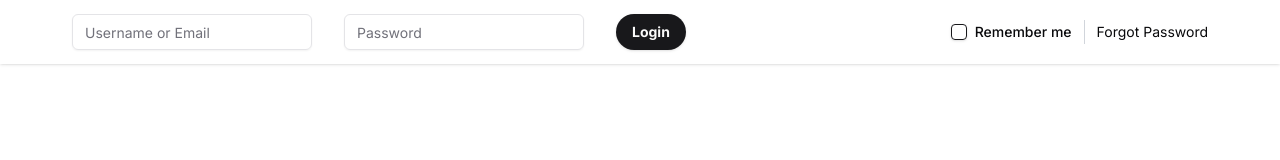
it: LoginNavbar › should show error message for empty password
The image size is (1280, 160).
Type "john.doe@example.com" into the field with placeholder "Username or Email". click: (192, 32)
box: [72,14,312,50]
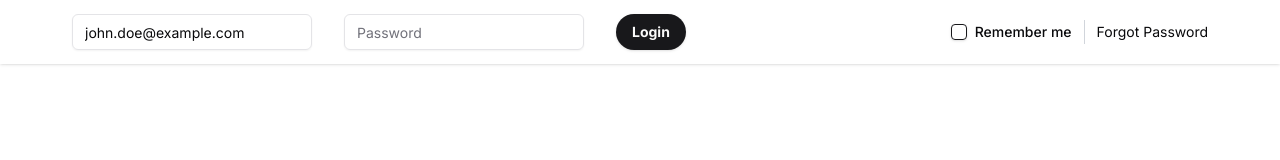
Click the button "Login". click: (651, 32)
box: [616,14,686,50]
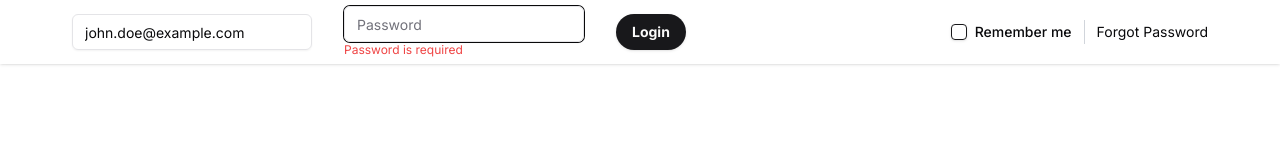
Expected: the text "Password is required" is shown, [344,42,463,57]
